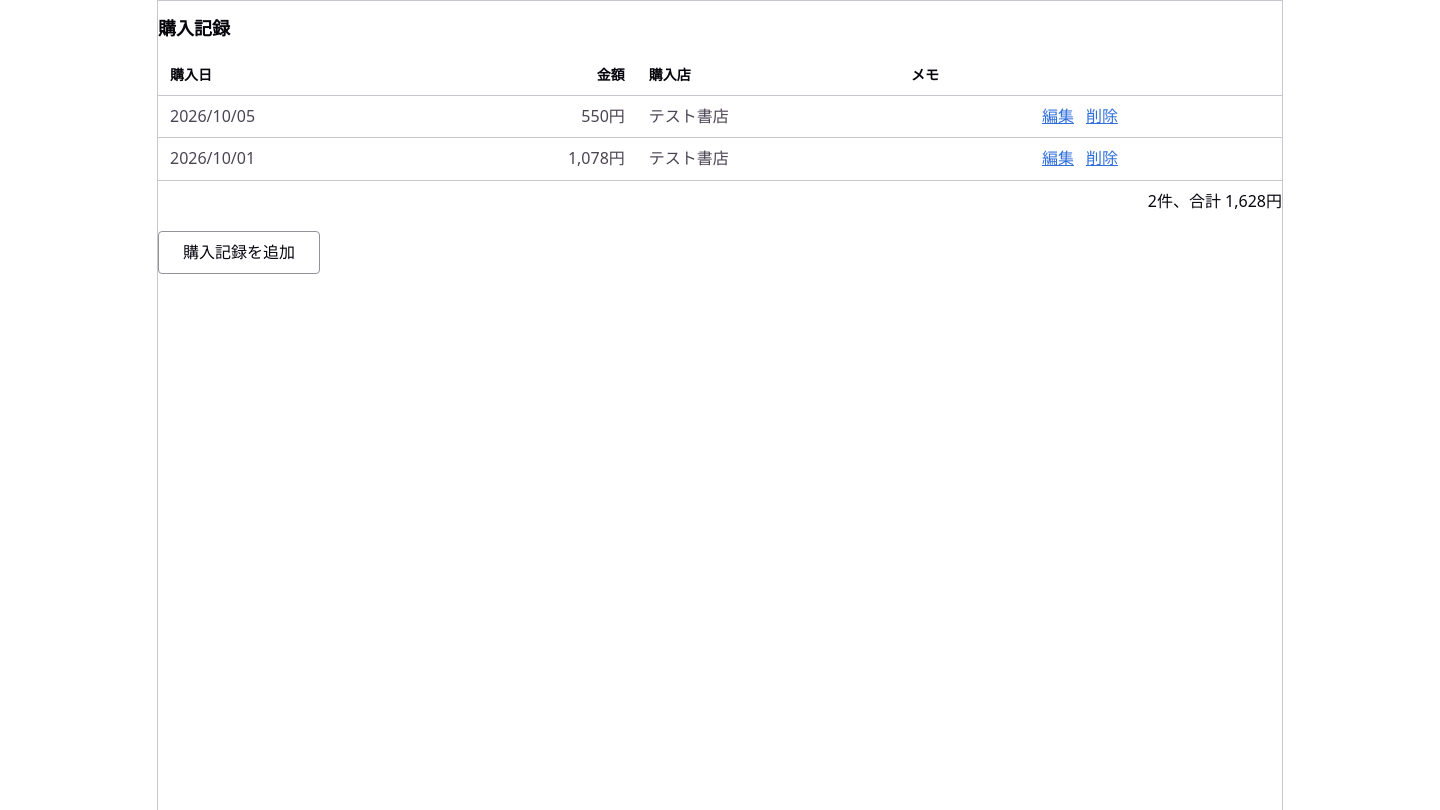
PurchasesSection › 削除 › 削除に失敗したら確認の中にエラーを表示し、もう一度押せるようにする
Click the button with aria-label "2026/10/01 の購入記録を削除". click: (1102, 159)
box: [1086,146,1118,172]
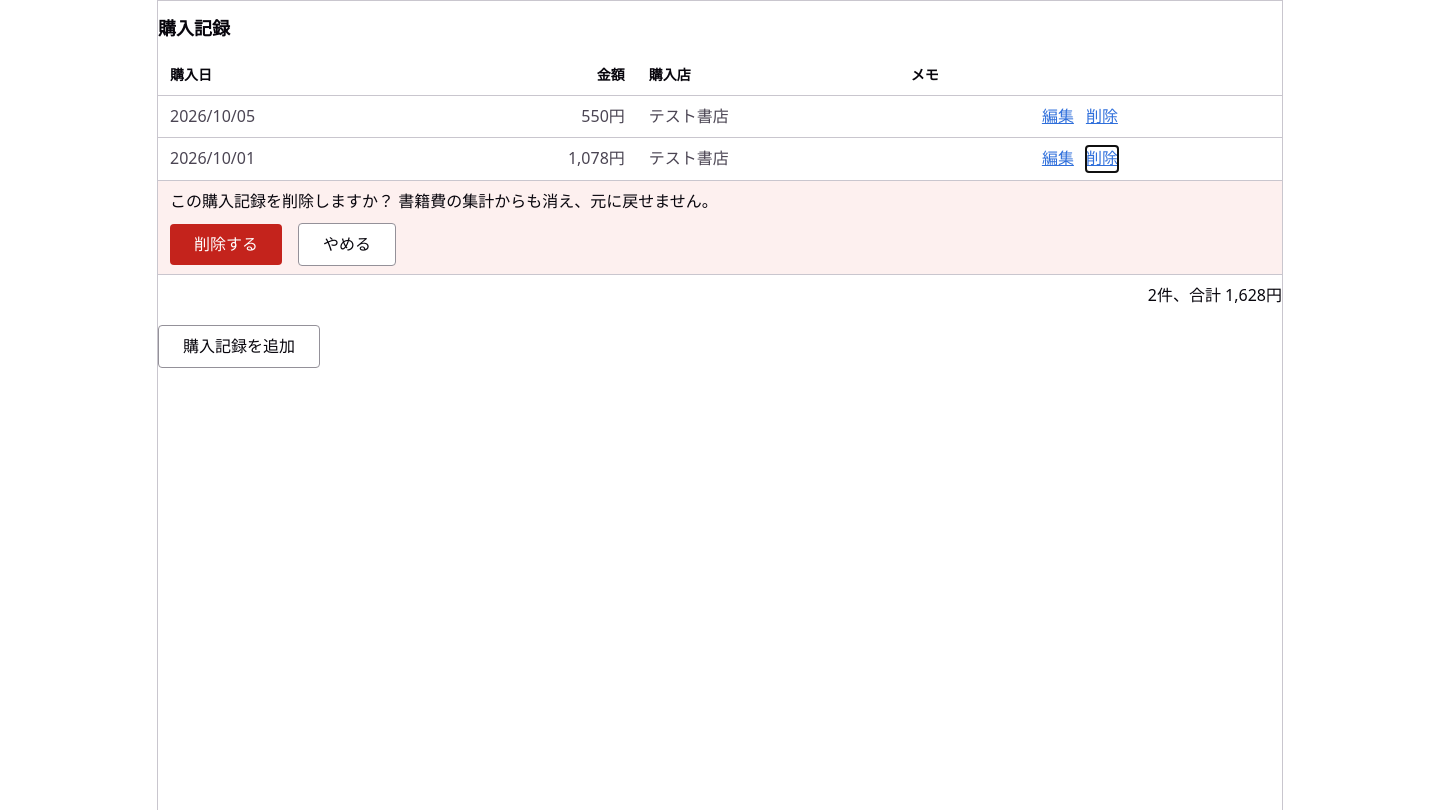
Click the button "削除する". click: (226, 244)
box: [170,224,282,265]
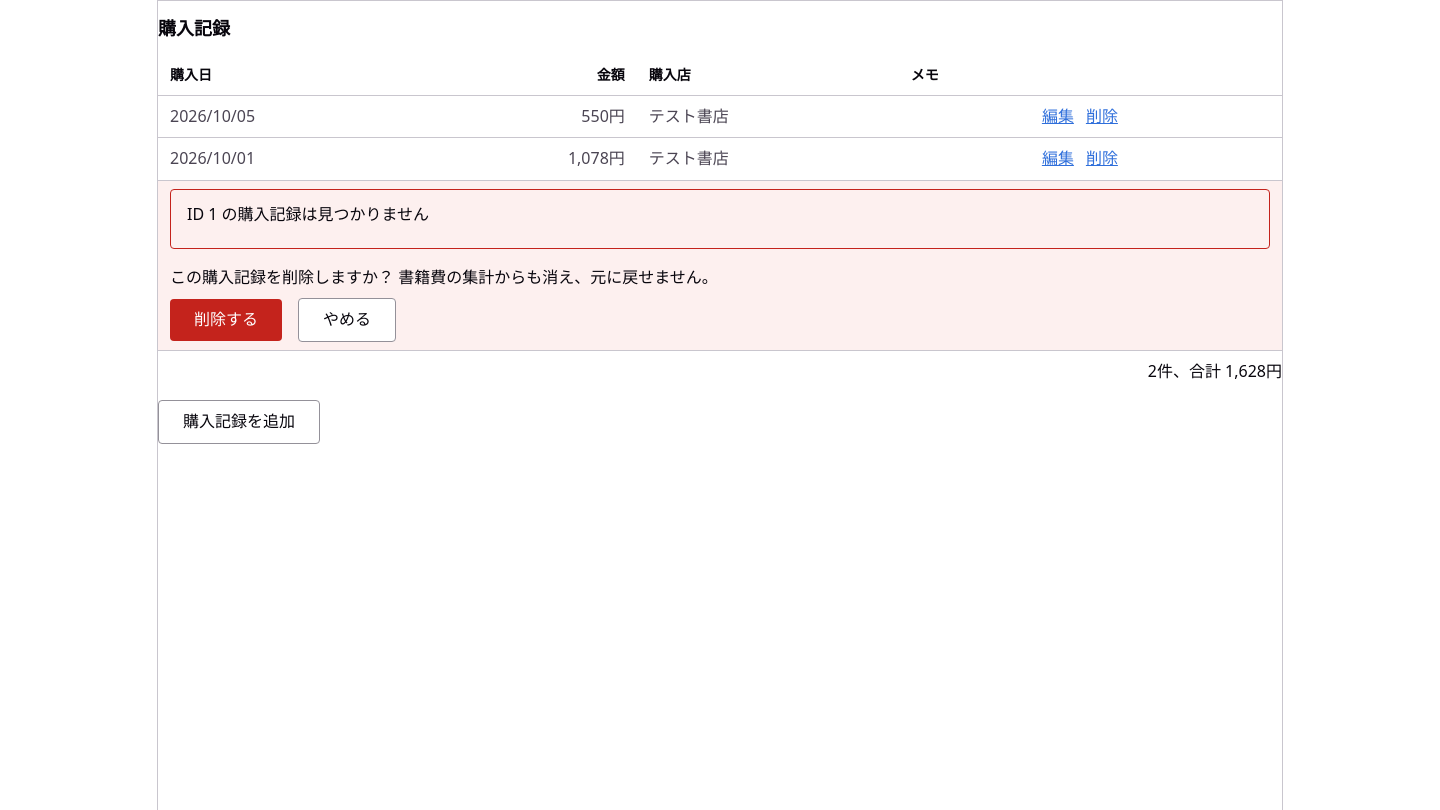
Now the button "削除する" is enabled, box [170,299,282,341]
Now the message reads "ID 1 の購入記録は見つかりません", box [187,203,429,225]
